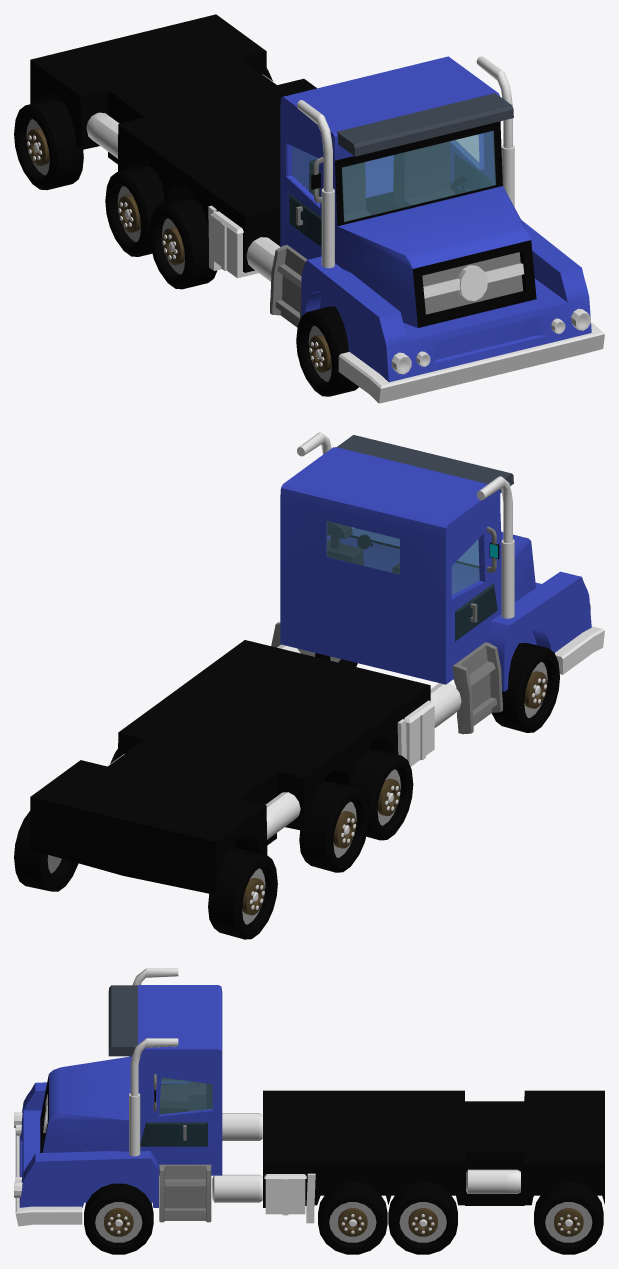
Rendered from CaminhaoNarigudoAzul.fbx.
3 views of the same model, one above another, from view 1: azimuth 30°, elevation 25°; view 2: azimuth 150°, elevation 25°; view 3: azimuth 270°, elevation 25° (orthographic). The views are drawn at different scales.
Visible parts, largest first — view 1: CaminhaoNarigudoAzul; view 2: CaminhaoNarigudoAzul; view 3: CaminhaoNarigudoAzul.
Boxes of the visible parts, box(x1,y1,x2,y2) form: CaminhaoNarigudoAzul: box(14, 14, 604, 403); CaminhaoNarigudoAzul: box(14, 432, 604, 939); CaminhaoNarigudoAzul: box(14, 968, 604, 1254).
Bounding box in the file's own units: 365 × 405 × 1042.
